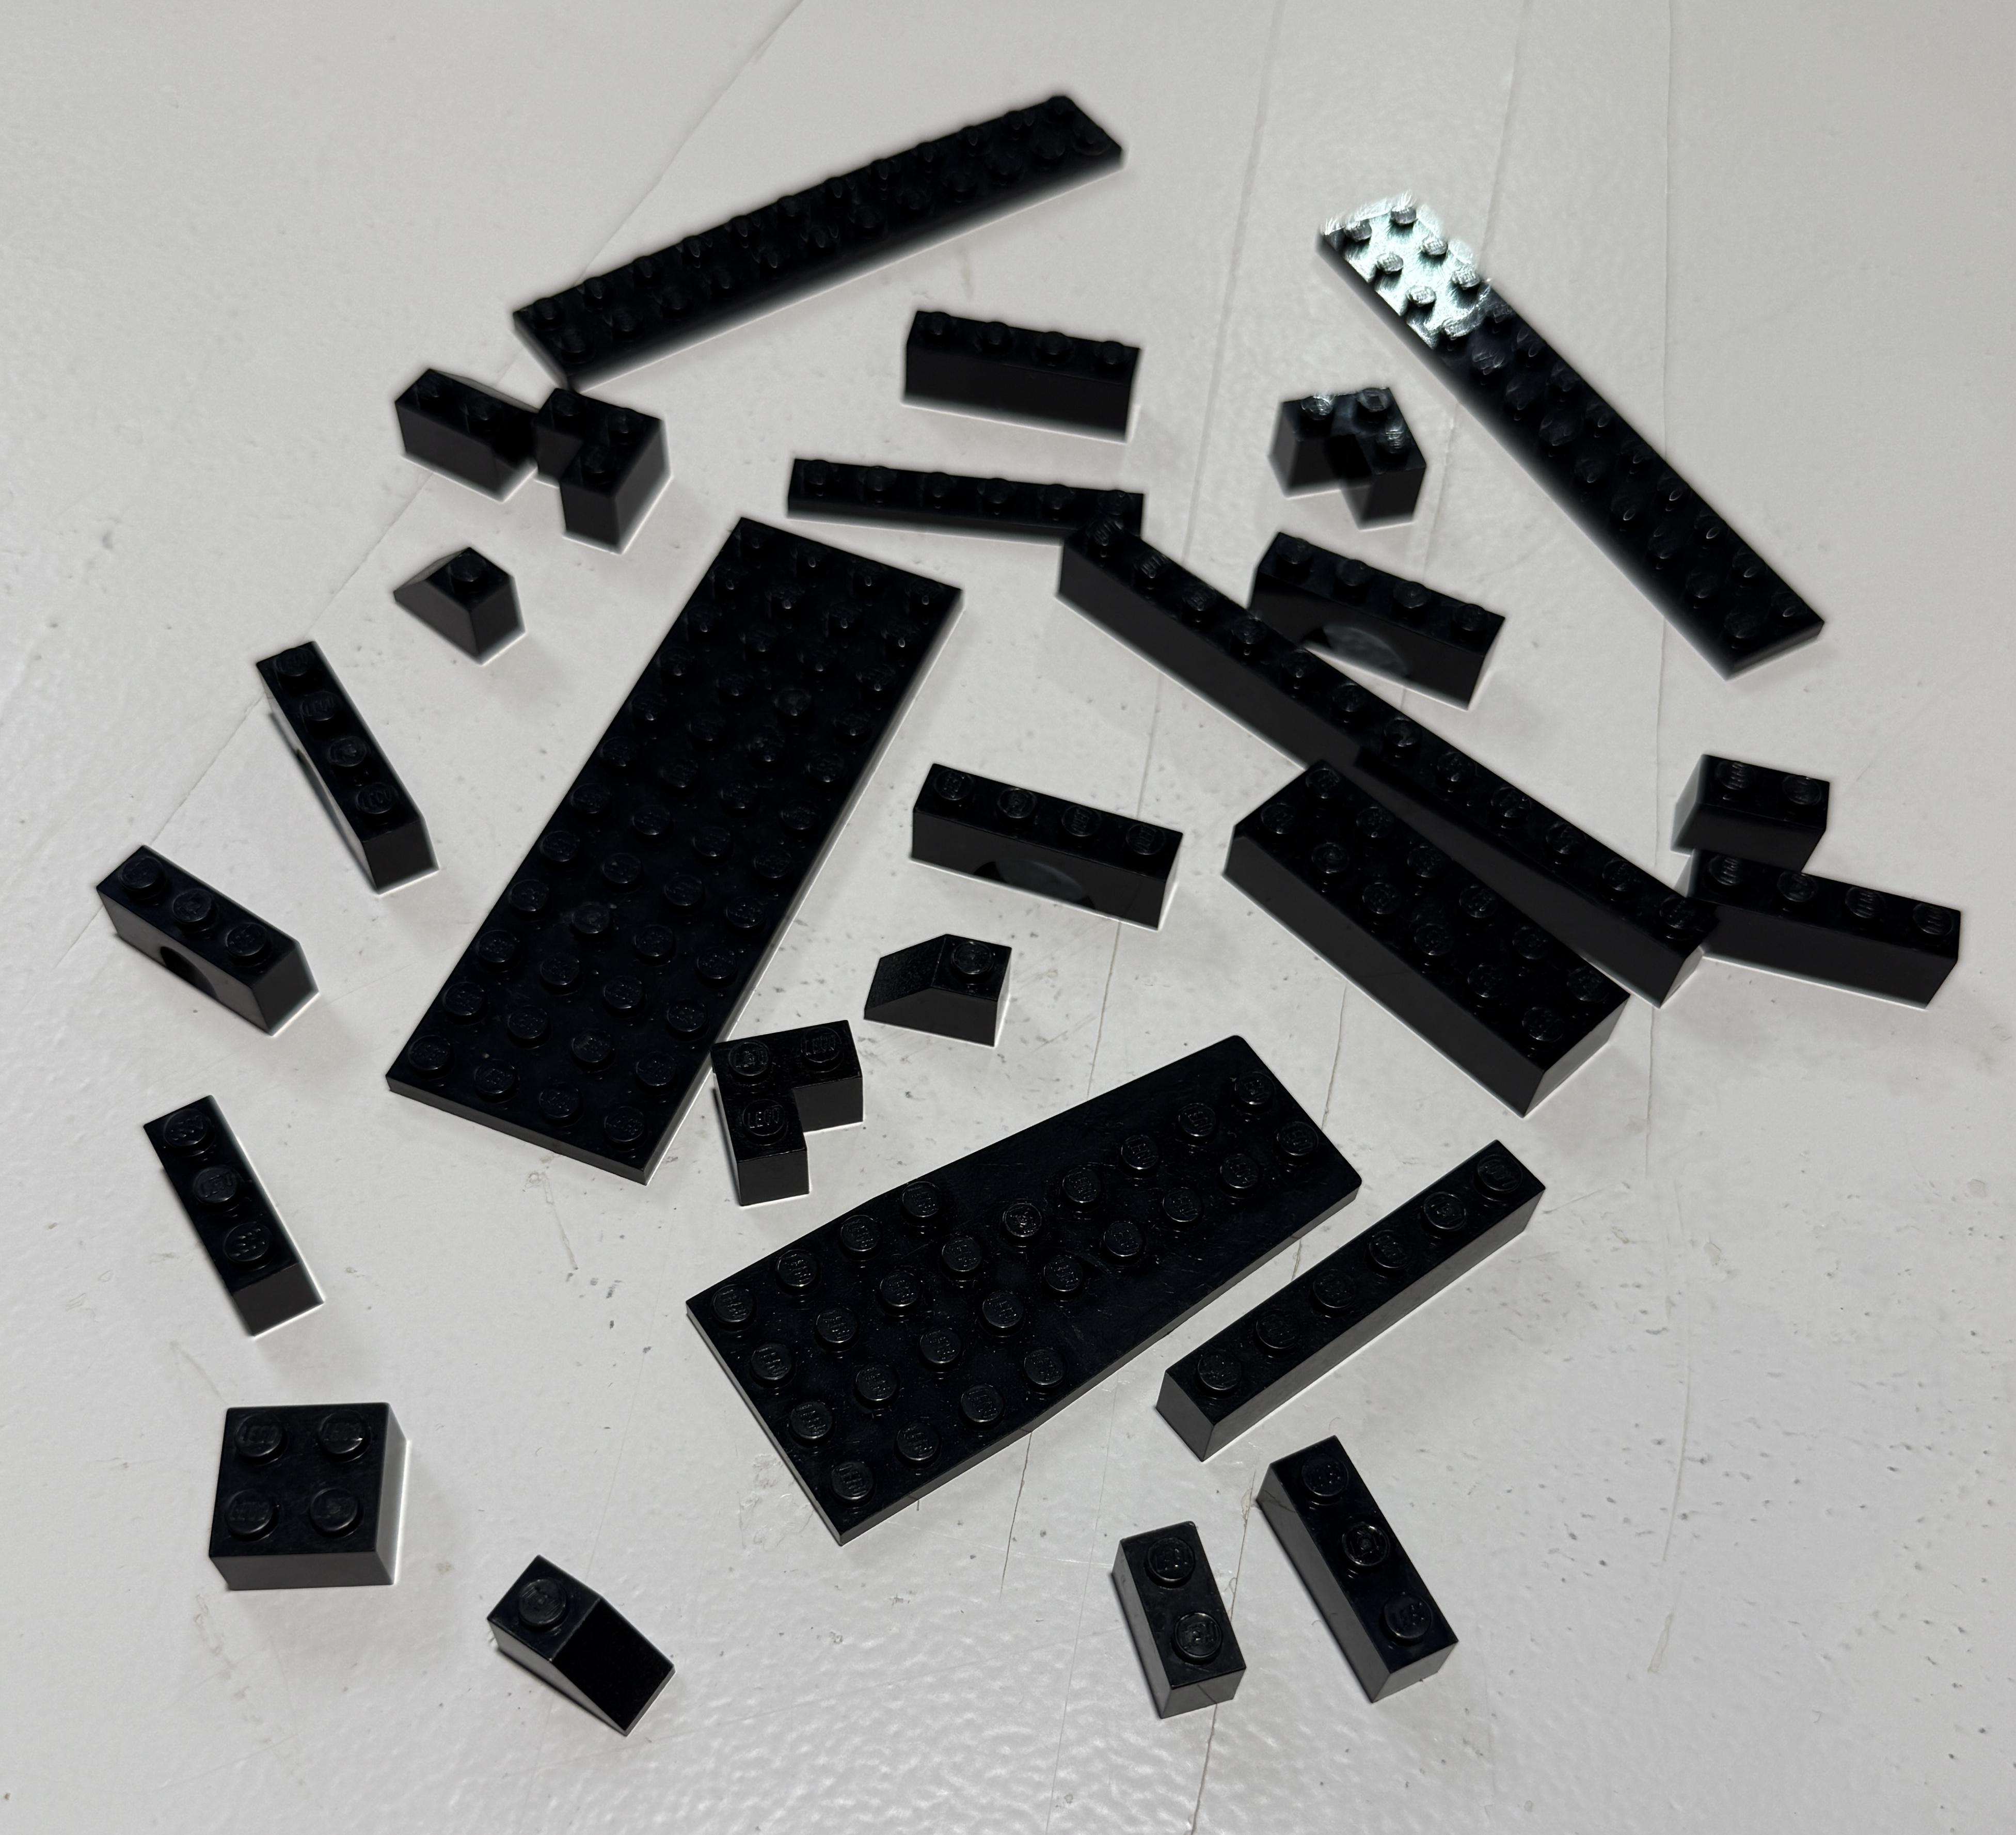brick_1x2: (1082, 1480, 1280, 1749), (1644, 734, 1861, 901)
brick_1x3: (1242, 1419, 1484, 1719)
brick_2x2: (193, 1387, 439, 1619)
